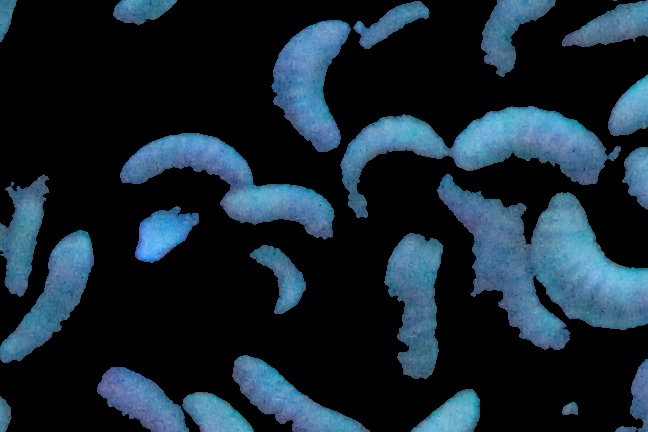larvae: (450, 180, 554, 349), (342, 87, 448, 241), (531, 193, 648, 327), (440, 92, 609, 182), (260, 12, 358, 162), (1, 226, 96, 379), (104, 121, 268, 202), (224, 354, 374, 432), (384, 215, 446, 382), (1, 167, 42, 311), (94, 366, 183, 429), (207, 190, 337, 233), (347, 1, 430, 62), (249, 243, 310, 319), (182, 385, 247, 432), (101, 1, 184, 25)
